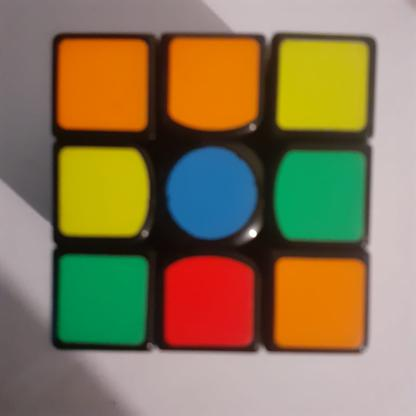book: (49, 26, 377, 362)
